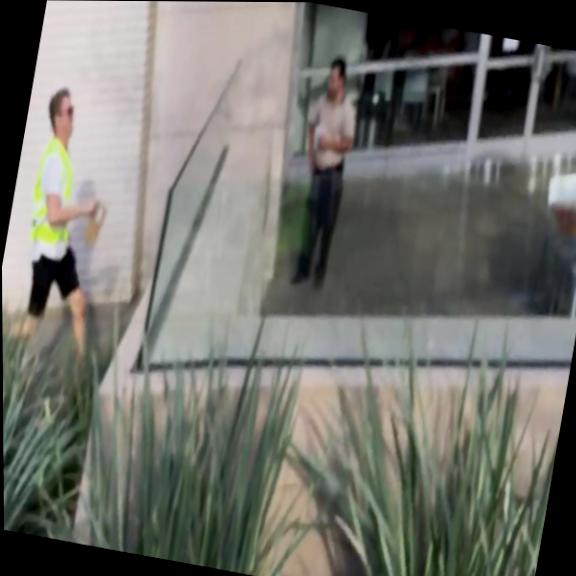safety_vest: (26, 136, 87, 250)
